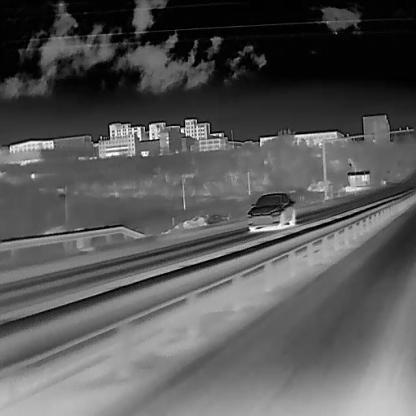car: (245, 191, 296, 231)
